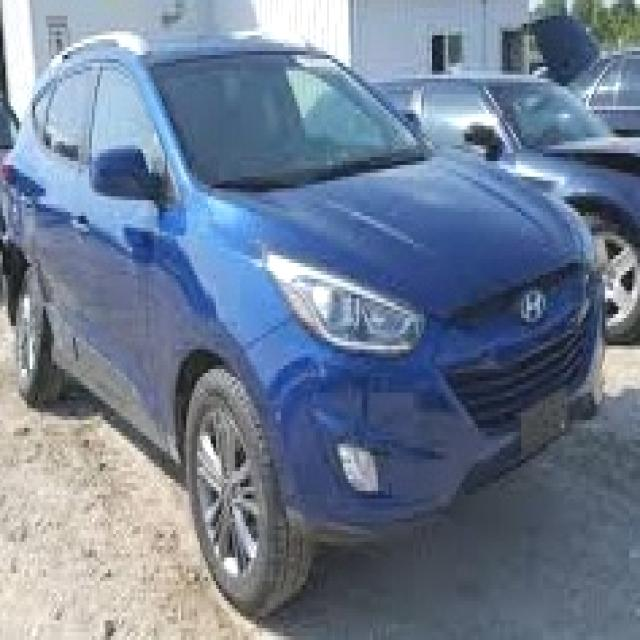blue: (5, 19, 598, 620)
